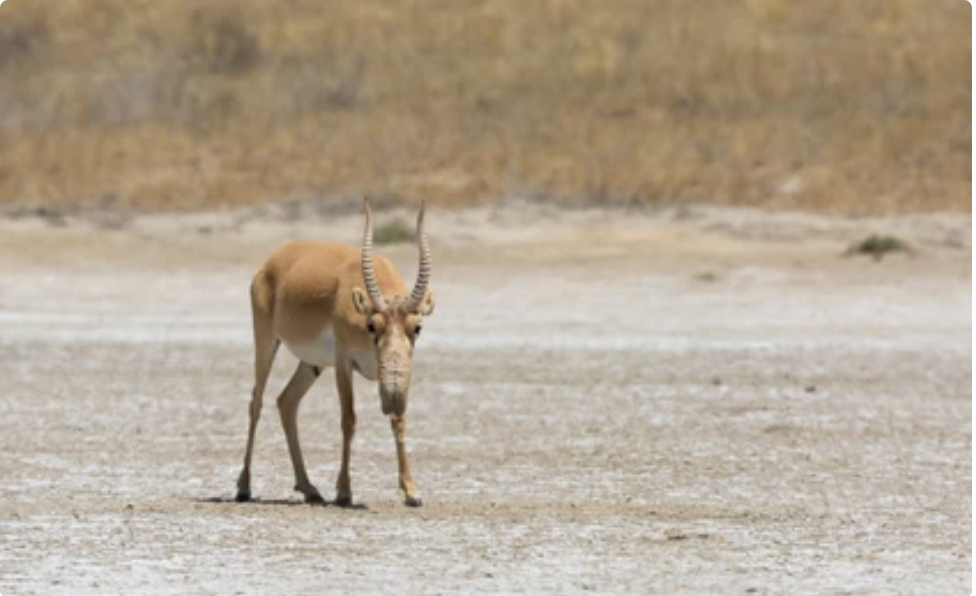saiga: (243, 185, 470, 509)
